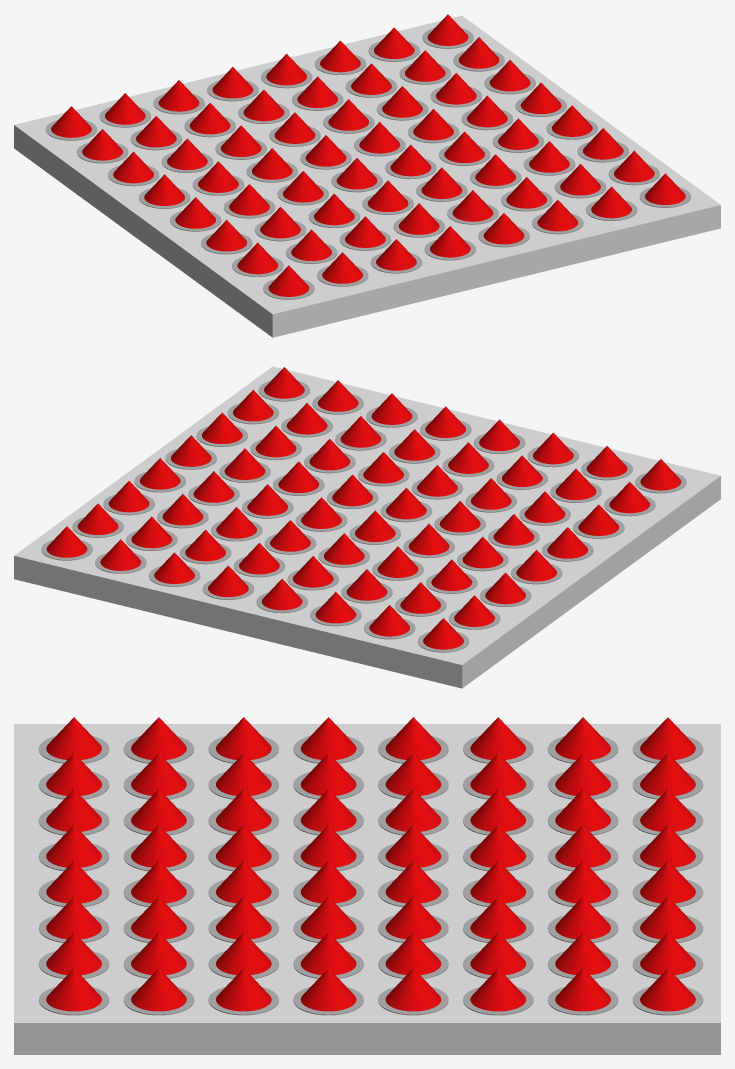
Rendered from Spike01.fbx.
The picture shows the model from 3 angles, top to bottom: view 1: azimuth 30°, elevation 25°; view 2: azimuth 150°, elevation 25°; view 3: azimuth 270°, elevation 25°; orthographic projection. The views are drawn at different scales.
Visible parts, largest first — view 1: Cube, Cone, Cylinder; view 2: Cube, Cone, Cylinder; view 3: Cube, Cone, Cylinder.
Part boxes in pixels (bbox=[...]): Cube: bbox=[14, 15, 720, 337]; Cone: bbox=[51, 14, 685, 296]; Cylinder: bbox=[45, 28, 691, 299]; Cube: bbox=[14, 366, 720, 688]; Cone: bbox=[46, 367, 681, 649]; Cylinder: bbox=[41, 381, 686, 652]; Cube: bbox=[14, 724, 720, 1054]; Cone: bbox=[46, 717, 695, 1011]; Cylinder: bbox=[38, 736, 703, 1015].
Bounding box in the file's own units: 10 × 1.01 × 10.
